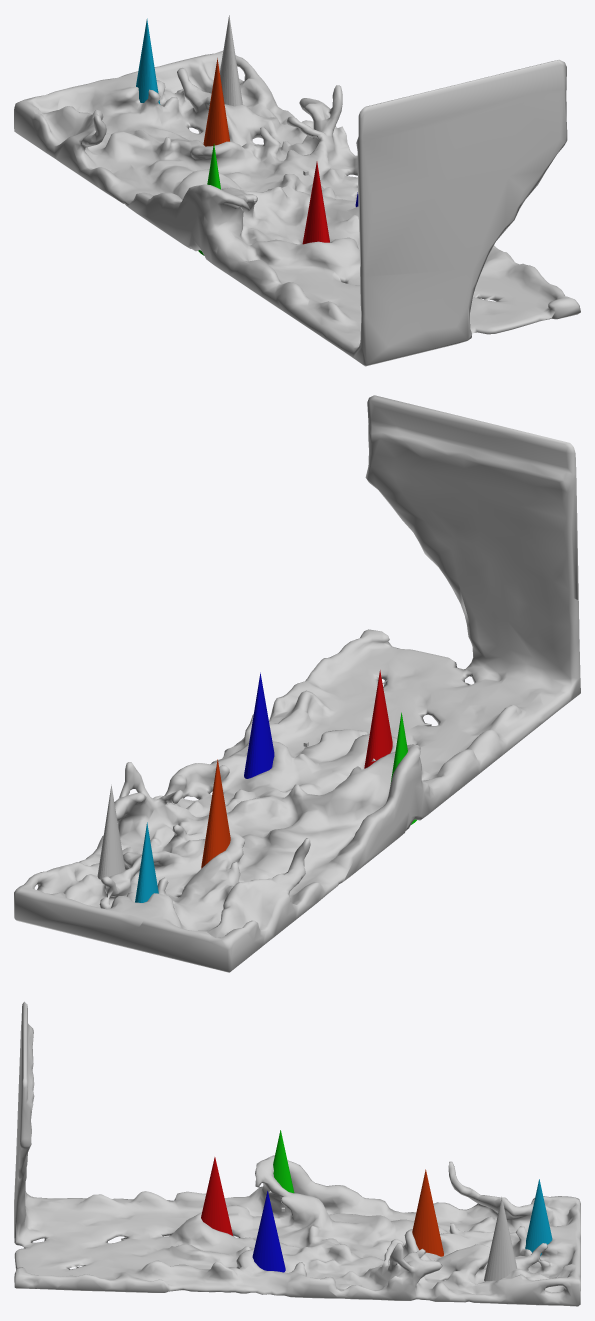
3 renders of one model, top to bottom at view 1: azimuth 30°, elevation 25°; view 2: azimuth 150°, elevation 25°; view 3: azimuth 270°, elevation 25°, orthographic. The views are drawn at different scales.
Visible parts, largest first — view 1: Liquid_Domain, 円錐.004, 円錐, 円錐.001, 円錐.005; view 2: Liquid_Domain, 円錐.002, 円錐.004, 円錐.001, 円錐, 円錐.005; view 3: Liquid_Domain, 円錐.002, 円錐.004, 円錐, 円錐.001, 円錐.005, 円錐.003.
Boxes of the visible parts, x1,y1,x2,y2 form: Liquid_Domain: (14, 51, 580, 366); 円錐.004: (203, 58, 229, 146); 円錐: (220, 15, 242, 106); 円錐.001: (302, 161, 329, 244); 円錐.005: (136, 18, 160, 104); Liquid_Domain: (14, 395, 580, 972); 円錐.002: (244, 672, 274, 778); 円錐.004: (201, 759, 230, 868); 円錐.001: (364, 670, 392, 768); 円錐: (97, 784, 125, 879); 円錐.005: (135, 822, 158, 902); Liquid_Domain: (14, 1001, 580, 1306); 円錐.002: (252, 1191, 285, 1272); 円錐.004: (412, 1169, 443, 1256); 円錐: (484, 1197, 517, 1281); 円錐.001: (201, 1157, 232, 1235); 円錐.005: (525, 1179, 552, 1255); 円錐.003: (273, 1130, 294, 1193).
Size of the model in its own units: 129 by 158 by 361.
